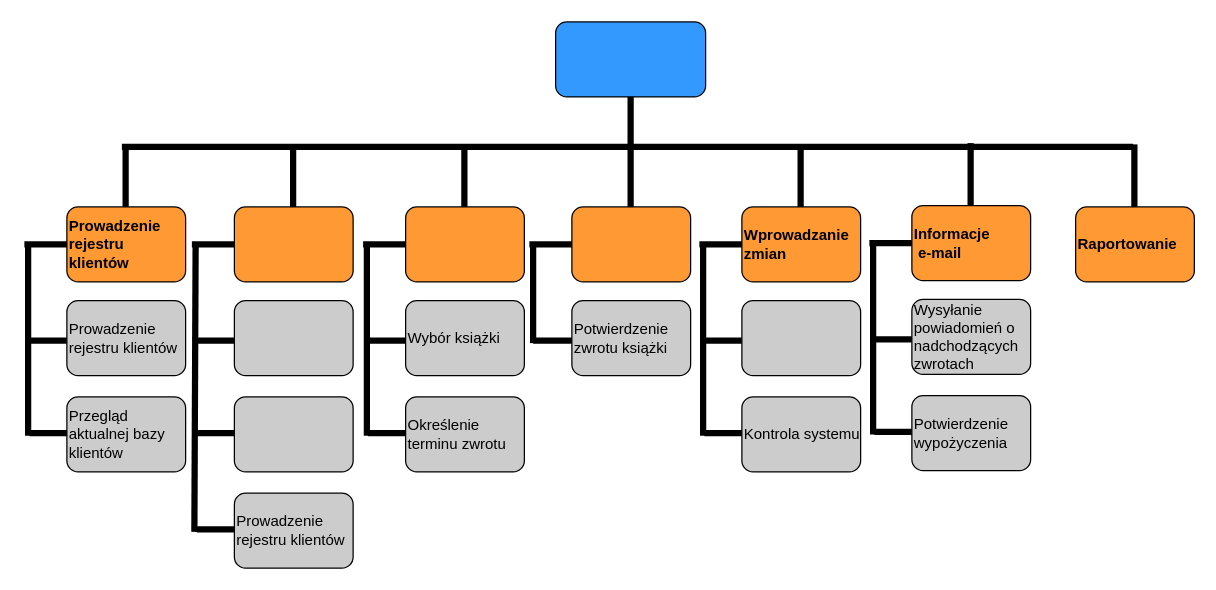
The diagram is 1216 pixels wide and 590 high, and some of its shapes have lost their labels. The shapes that lost their labels are listed below. From the top down, each one's box as (x1, y1, x2, y2) in pixels, then its label:
(554, 21, 706, 97): SZZB
(233, 206, 353, 282): Spis książek
(404, 206, 524, 282): Wypożyczenie książki
(571, 206, 691, 282): Zwrot książki
(233, 299, 353, 376): Wyświetlenie dostępnych w bibliotece książek
(741, 299, 861, 376): Modyfikacja danych
(233, 396, 353, 472): Wyszukiwanie książek
